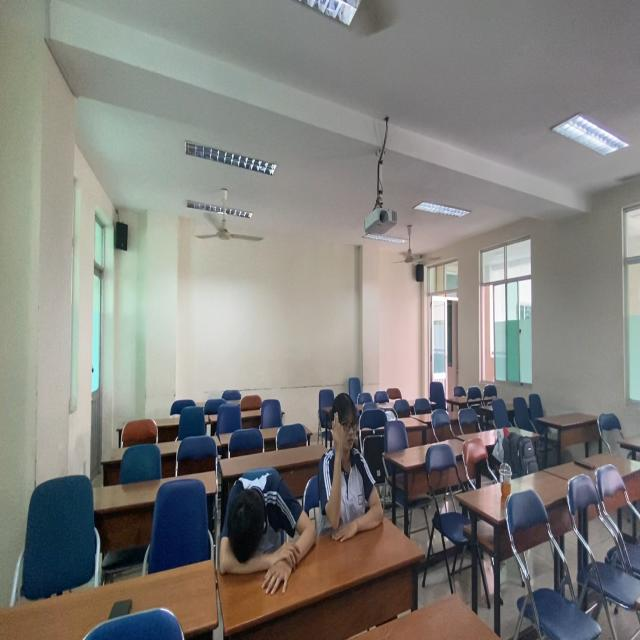raise_hand: (321, 387, 393, 531)
sleep: (213, 464, 313, 585)
